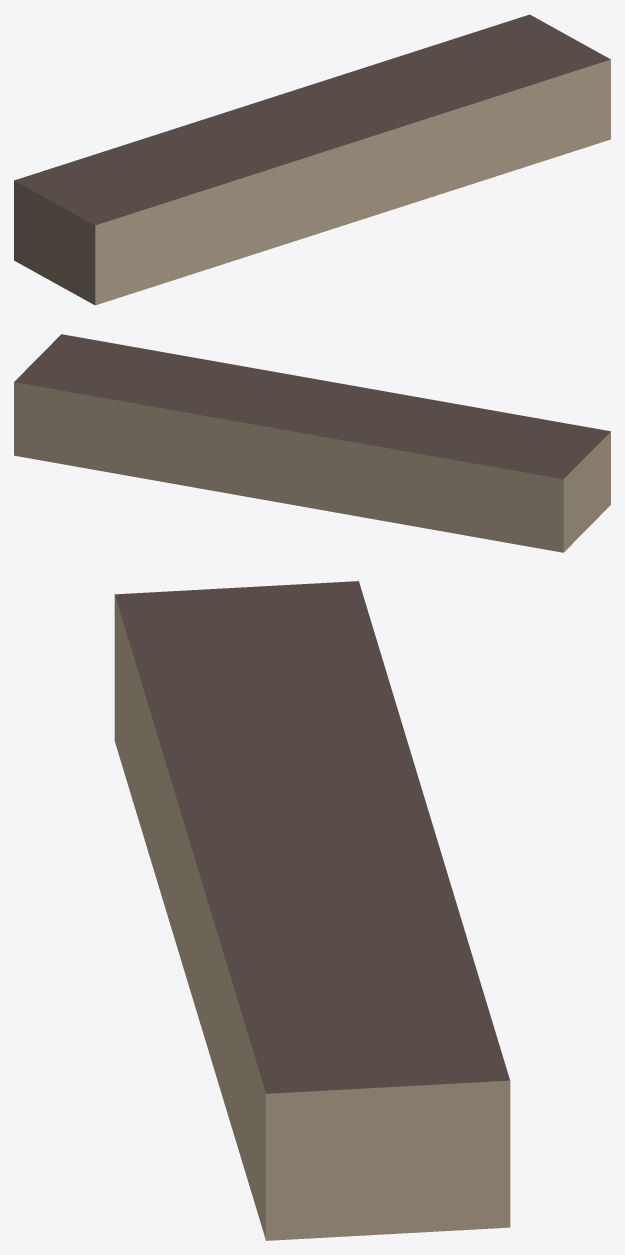
3 renders of one model, top to bottom at view 1: azimuth 30°, elevation 25°; view 2: azimuth 150°, elevation 25°; view 3: azimuth 270°, elevation 25°, orthographic. The views are drawn at different scales.
Parts seen in each view (by area): view 1: HP-w859424233; view 2: HP-w859424233; view 3: HP-w859424233.
Part boxes in pixels (left/top/right/bottom): HP-w859424233: left=14, top=14, right=610, bottom=305; HP-w859424233: left=14, top=334, right=610, bottom=552; HP-w859424233: left=114, top=581, right=510, bottom=1240.
Size of the model in its own units: 67.3 by 9 by 21.93.
